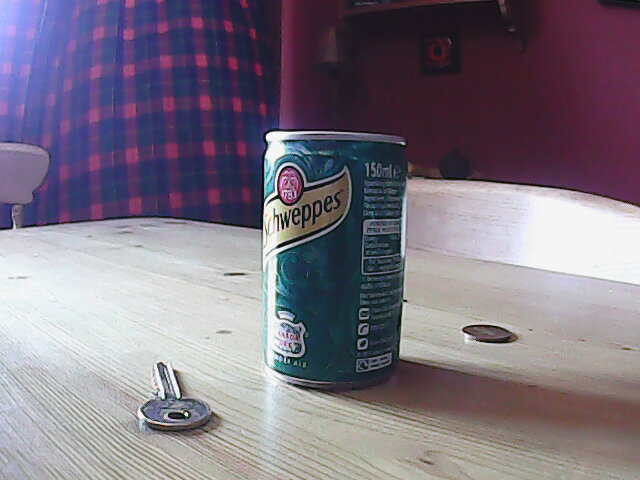Can: (257, 127, 409, 393)
Coin: (456, 321, 515, 346)
Key: (134, 359, 214, 435)
